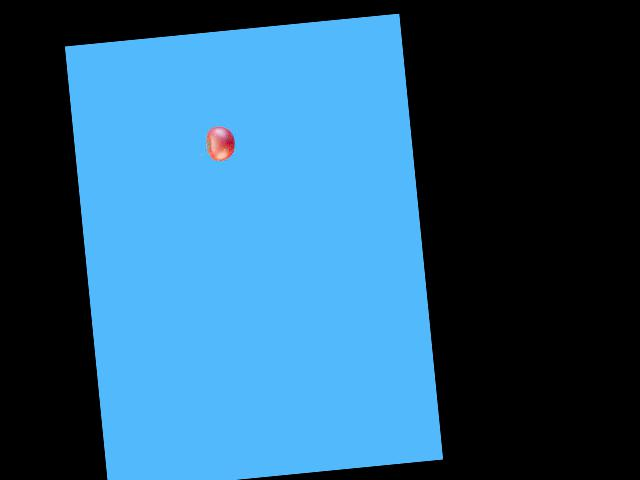tomato: (205, 124, 236, 161)
